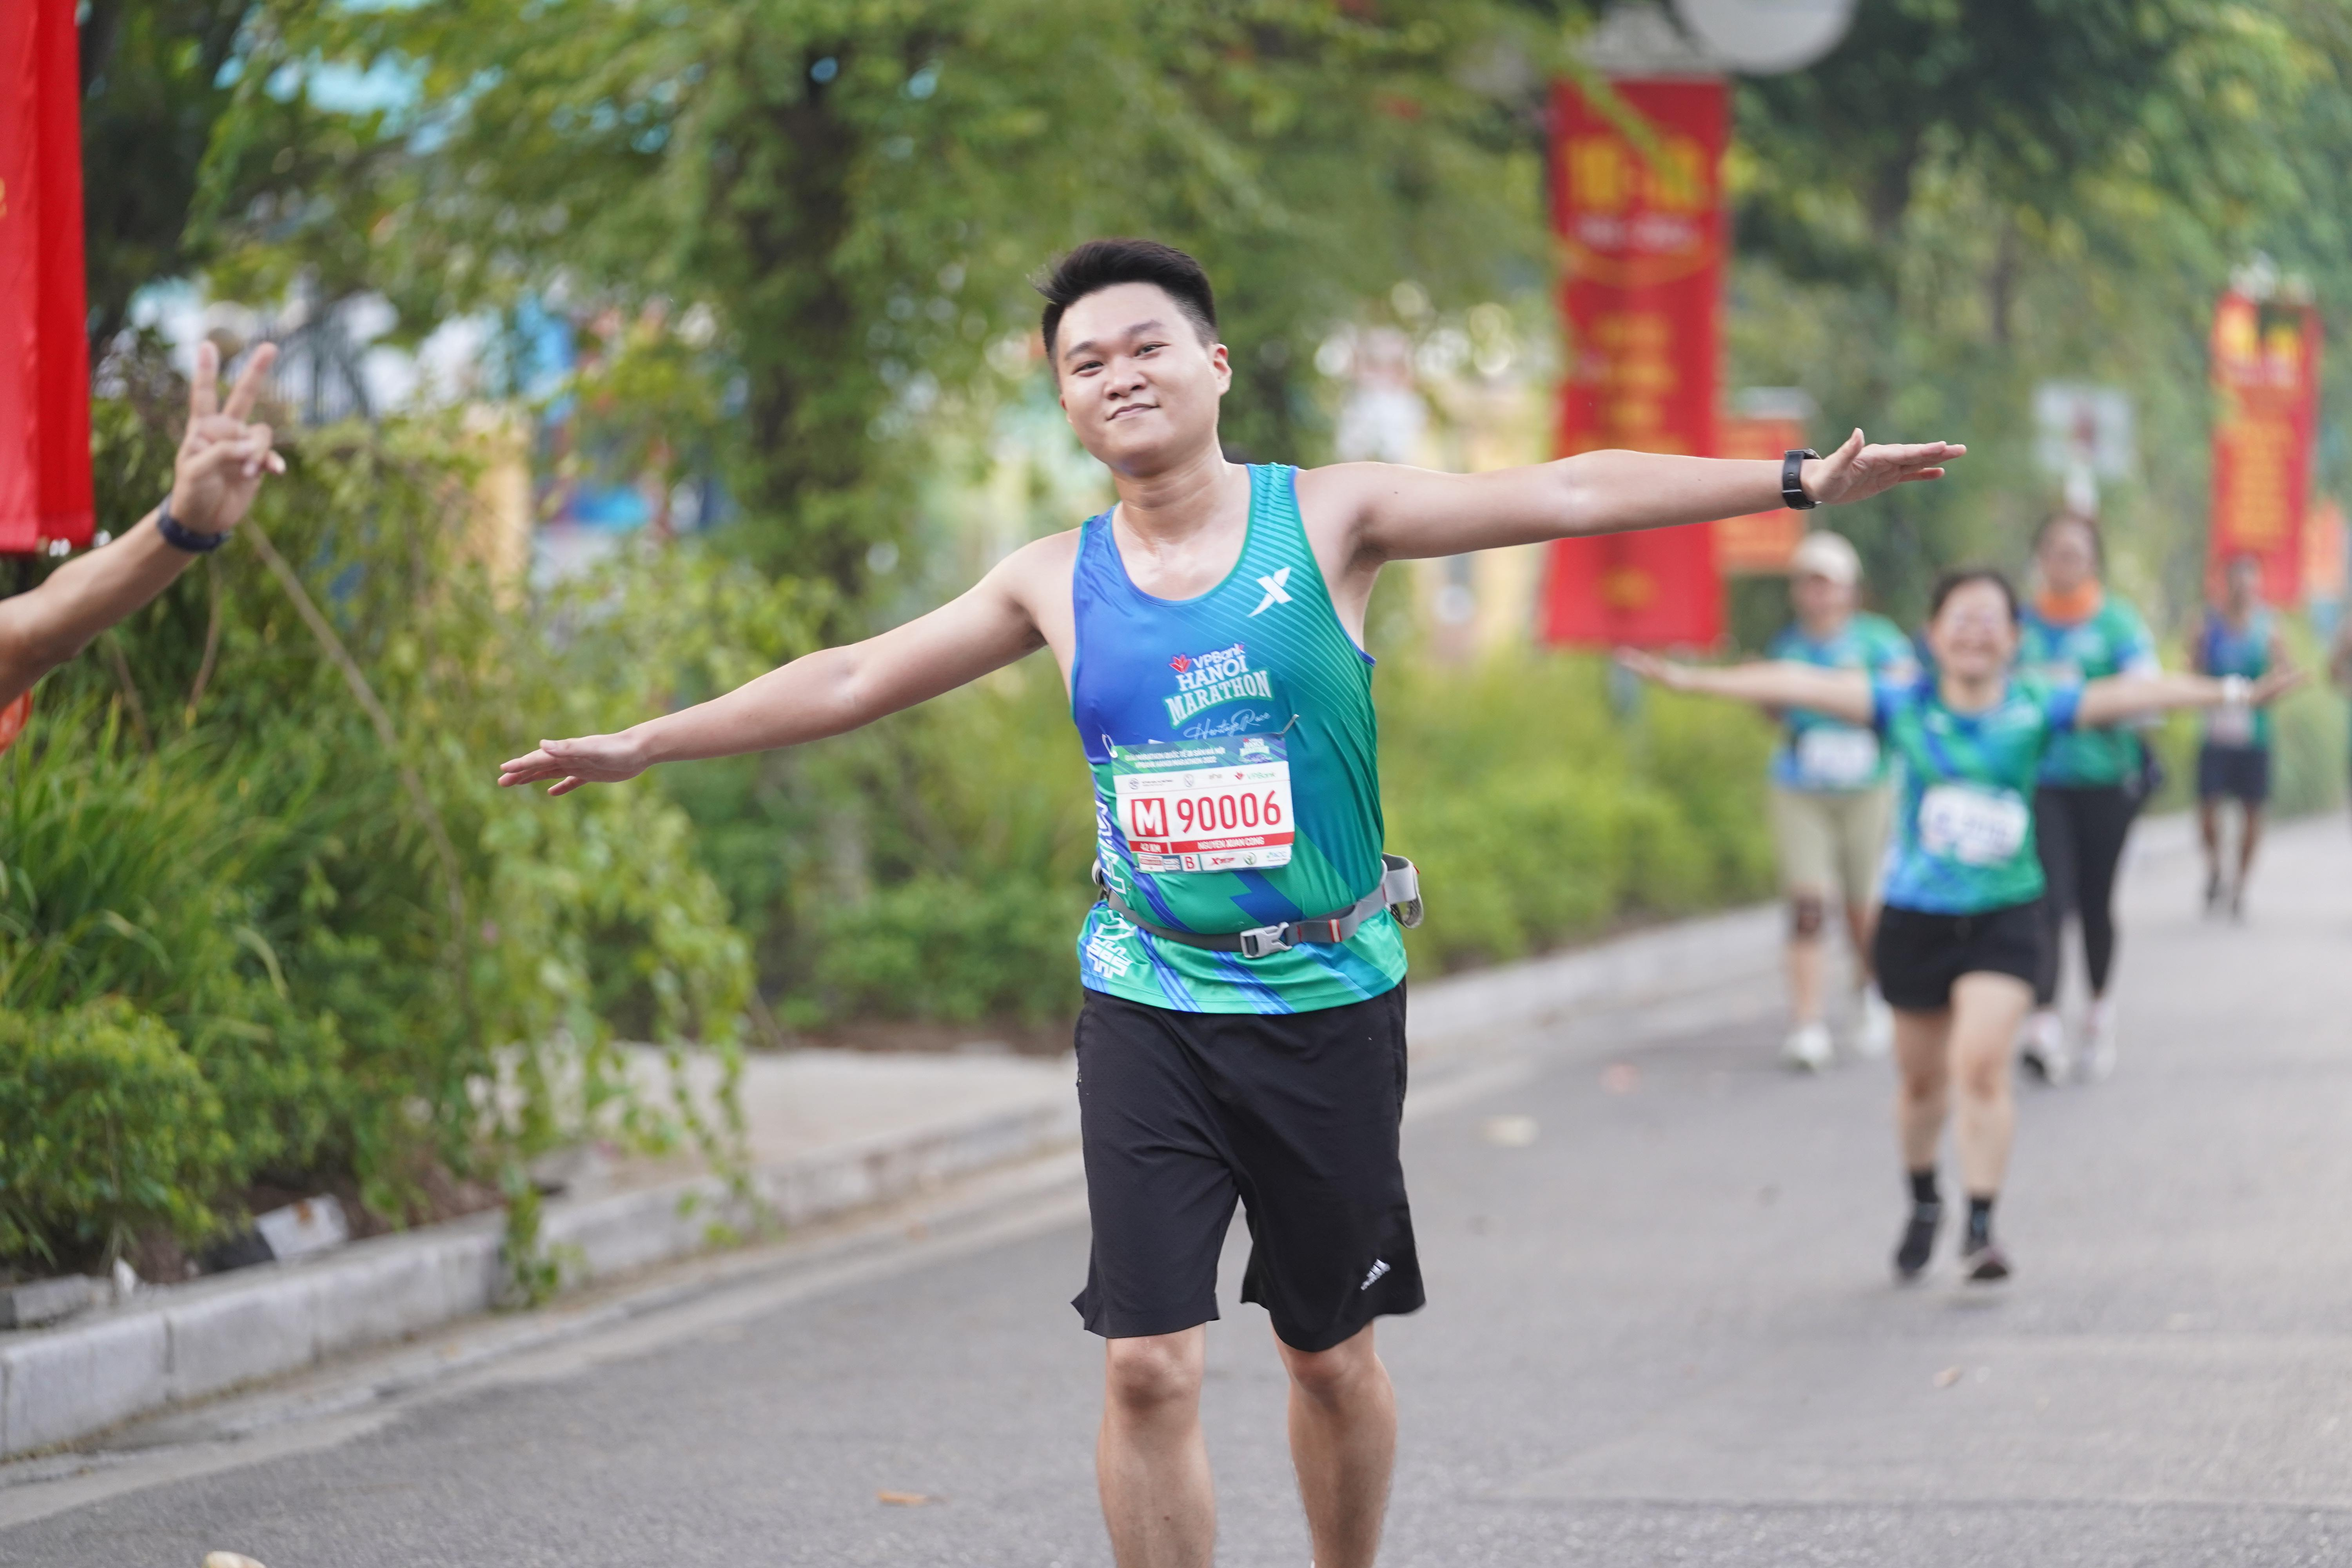bib: (1108, 733, 1297, 866), (1918, 775, 2033, 863), (1804, 728, 1878, 784)
